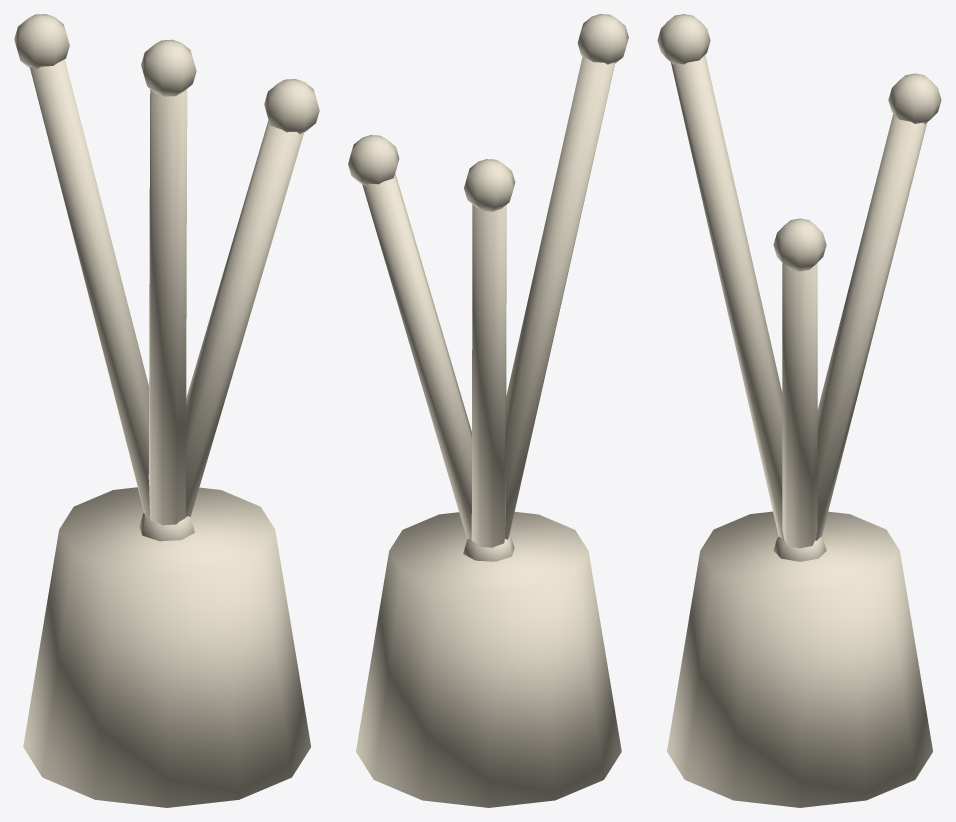
Rendered from withered_sprig_bone_sprout.glb.
The picture shows the model from 3 angles, left to right: view 1: azimuth 30°, elevation 25°; view 2: azimuth 150°, elevation 25°; view 3: azimuth 270°, elevation 25°; orthographic projection. The views are drawn at different scales.
Parts seen in each view (by area): view 1: GD_withered_sprig_bone_sprout__m0; view 2: GD_withered_sprig_bone_sprout__m0; view 3: GD_withered_sprig_bone_sprout__m0.
Boxes of the visible parts, <box> form: GD_withered_sprig_bone_sprout__m0: <box>14,14,319,807</box>; GD_withered_sprig_bone_sprout__m0: <box>348,14,628,807</box>; GD_withered_sprig_bone_sprout__m0: <box>657,14,941,807</box>.
Bounding box in the file's own units: 0.132 × 0.352 × 0.1281.
